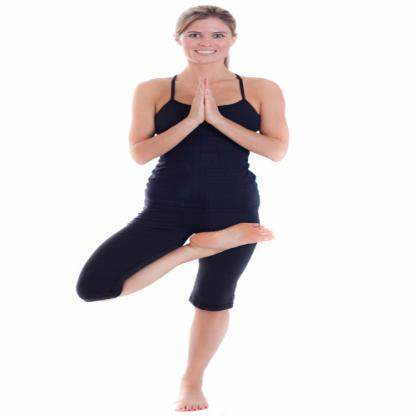tree: (67, 2, 305, 415)
